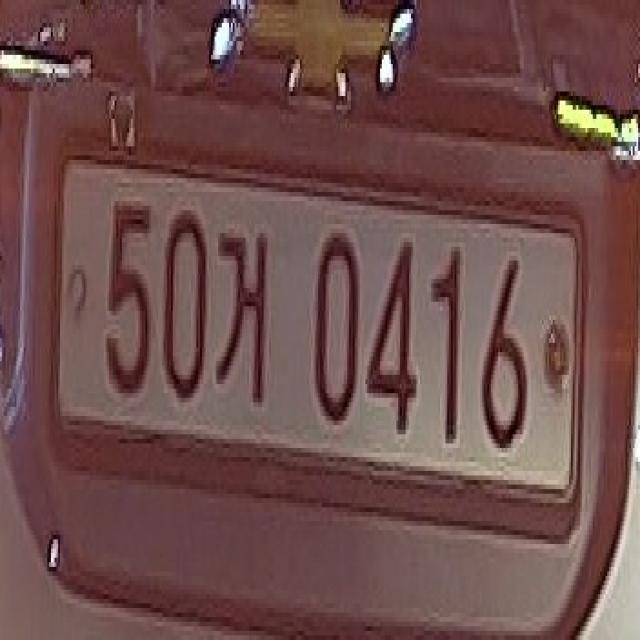0: (313, 215, 360, 431), (162, 208, 206, 405)
1: (428, 229, 466, 458)
4: (366, 224, 422, 452)
5: (102, 192, 154, 401)
6: (480, 238, 527, 466)
geo: (212, 220, 276, 408)
license_plate: (56, 163, 581, 523)
